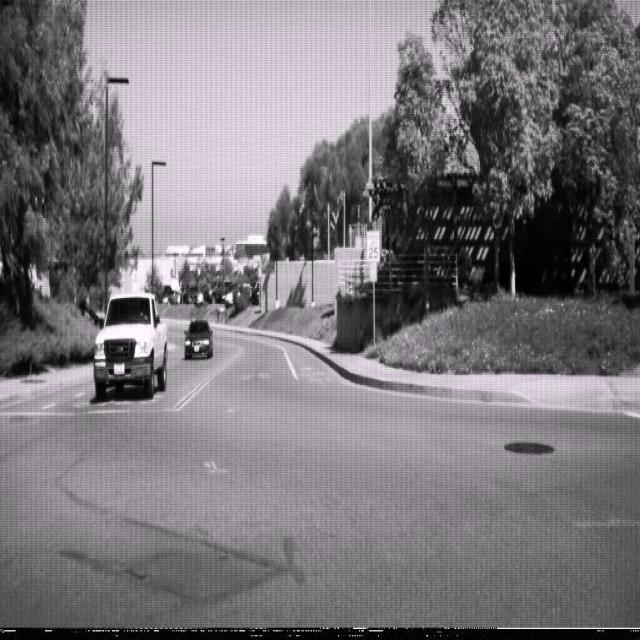speedLimit25: (366, 230, 380, 262)
